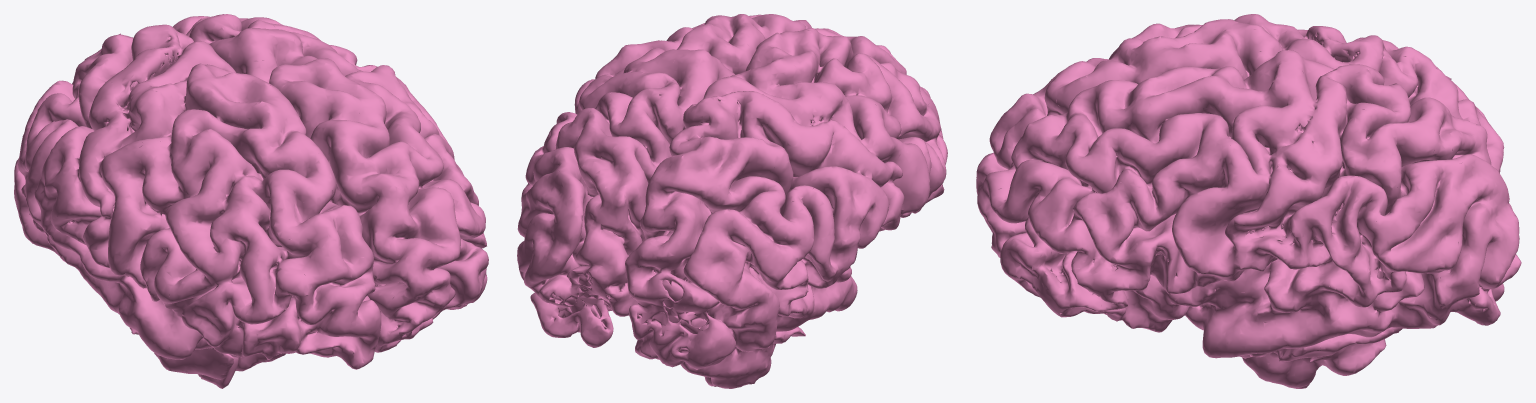
The model's file is brain-lite.glb.
3 renders of one model, left to right at view 1: azimuth 30°, elevation 25°; view 2: azimuth 150°, elevation 25°; view 3: azimuth 270°, elevation 25°, orthographic. The views are drawn at different scales.
Visible parts, largest first — view 1: aseg_Segment_42, aseg_Segment_3, aseg_Segment_47_001, aseg_Segment_8; view 2: aseg_Segment_42, aseg_Segment_3, aseg_Segment_47_001, aseg_Segment_41, aseg_Segment_2, aseg_Segment_8; view 3: aseg_Segment_3, aseg_Segment_42, aseg_Segment_8.
Part boxes in pixels (<box>): aseg_Segment_42: <box>14,24,381,369</box>; aseg_Segment_3: <box>173,14,488,352</box>; aseg_Segment_47_001: <box>118,313,238,388</box>; aseg_Segment_8: <box>235,353,285,371</box>; aseg_Segment_42: <box>625,28,947,369</box>; aseg_Segment_3: <box>517,14,811,347</box>; aseg_Segment_47_001: <box>680,327,805,388</box>; aseg_Segment_41: <box>637,103,821,352</box>; aseg_Segment_2: <box>550,274,619,329</box>; aseg_Segment_8: <box>607,305,659,359</box>; aseg_Segment_3: <box>977,50,1521,358</box>; aseg_Segment_42: <box>976,14,1504,232</box>; aseg_Segment_8: <box>1239,327,1402,387</box>.
Size of the model in its own units: 118 by 115 by 162.
